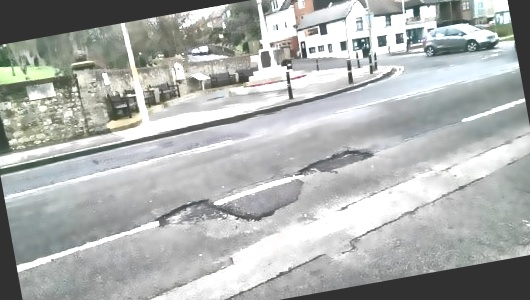pothole: (298, 144, 377, 178), (153, 194, 223, 230)
